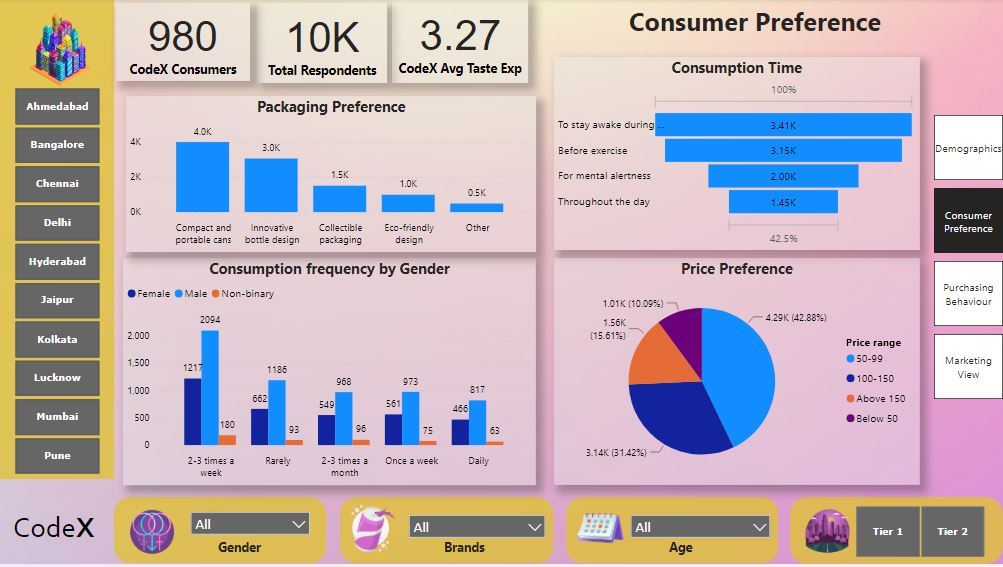

What the dashboard file says about the page in this screenshot:
{"tool":"powerbi","page":{"name":"Consumer Preference","canvas":[1280,720],"ordinal":1},"visuals":[{"type":"shape","box":[1008.4,634.9,271.6,85.4],"z":0},{"type":"shape","box":[434.6,635.4,272.1,84.5],"z":1000},{"type":"shape","box":[722.6,635.4,270.8,84.5],"z":2000},{"type":"shape","box":[146.6,635.4,270.8,84.5],"z":3000},{"type":"shape","box":[0,0,146.9,611.9],"z":4000},{"type":"slicer","fields":{"Values":["dim_repondents.Gender"]},"box":[219.3,643.9,181.7,56.4],"z":5000},{"type":"slicer","fields":{"Values":["fact_survey_responses.Current_brands"]},"box":[512.3,653.3,194.3,48.6],"z":6000},{"type":"slicer","fields":{"Values":["dim_cities.Tier"]},"box":[1066.9,645.5,213.1,72.1],"z":7000},{"type":"slicer","title":".","fields":{"Values":["dim_repondents.Age"]},"box":[780.2,653.3,208.4,37.6],"z":8000},{"type":"card","fields":{"Values":["fact_survey_responses.CodeX Consumer"]},"box":[329,4.7,166.1,101.8],"z":9000},{"type":"card","fields":{"Values":["fact_survey_responses.CodeX Consumers"]},"box":[148.8,4.7,170.8,98.7],"z":10000},{"type":"clusteredColumnChart","title":"Consumption frequency by Gender","fields":{"Y":["CountNonNull(fact_survey_responses.Respondent_ID)"],"Series":["dim_repondents.Gender"],"Category":["fact_survey_responses.Consume_frequency"]},"box":[158.2,330.6,526.4,289.8],"z":12000},{"type":"slicer","fields":{"Values":["dim_cities.City"]},"box":[0,106.8,146.9,505.1],"z":13000},{"type":"image","box":[149.3,645.9,92.5,66],"z":14000},{"type":"image","box":[9.9,0,136.6,123.9],"z":15000},{"type":"image","box":[401.4,632.4,146.5,84.5],"z":16000},{"type":"image","box":[722.5,621.1,87.3,98.6],"z":17000},{"type":"image","box":[988.7,643.7,132.4,69],"z":18000},{"type":"card","fields":{"Values":["fact_survey_responses.CodeX Avg Taste Exp"]},"box":[501.3,0,173.9,106.5],"z":19000},{"type":"textbox","box":[274.2,683.1,90.9,37.6],"z":20000},{"type":"textbox","box":[562.4,683.1,70.5,37.6],"z":21000},{"type":"textbox","box":[849.2,683.1,70.5,37.6],"z":22000},{"type":"textbox","box":[12.5,645.5,142.6,68.9],"z":23000},{"type":"textbox","box":[797.5,1.6,346.2,61.1],"z":24000},{"type":"funnel","title":"Consumption Time","fields":{"Category":["fact_survey_responses.Consume_time"],"Y":["CountNonNull(fact_survey_responses.Respondent_ID)"]},"box":[707.2,73.5,466.1,245.7],"z":26000},{"type":"clusteredColumnChart","title":"Packaging Preference","fields":{"Category":["fact_survey_responses.Packaging_preference"],"Y":["CountNonNull(fact_survey_responses.Respondent_ID)"]},"box":[161.4,123.8,523.3,199],"z":27000},{"type":"pieChart","title":"Price Preference","fields":{"Y":["CountNonNull(fact_survey_responses.Respondent_ID)"],"Category":["fact_survey_responses.Price_range"]},"box":[707.2,330.6,466.1,289.3],"z":28001},{"type":"pageNavigator","box":[1191.5,147.9,88.5,364.6],"z":28002}]}

Visuals, with their boxes in screenshot pixels (x1, y1, x2, y2), scaled from the page's 1280x720 canvas onto the 1003x567 screenshot:
shape: Rect(790, 500, 1002, 566)
shape: Rect(341, 500, 554, 566)
shape: Rect(566, 500, 778, 566)
shape: Rect(115, 500, 327, 566)
shape: Rect(0, 0, 115, 482)
slicer - dim_repondents.Gender: Rect(172, 507, 314, 551)
slicer - fact_survey_responses.Current_brands: Rect(401, 514, 554, 553)
slicer - dim_cities.Tier: Rect(836, 508, 1002, 565)
"." slicer: Rect(611, 514, 775, 544)
card - fact_survey_responses.CodeX Consumer: Rect(258, 4, 388, 84)
card - fact_survey_responses.CodeX Consumers: Rect(117, 4, 250, 81)
"Consumption frequency by Gender" clusteredColumnChart: Rect(124, 260, 536, 489)
slicer - dim_cities.City: Rect(0, 84, 115, 482)
image: Rect(117, 509, 189, 561)
image: Rect(8, 0, 115, 98)
image: Rect(315, 498, 429, 565)
image: Rect(566, 489, 635, 566)
image: Rect(775, 507, 878, 561)
card - fact_survey_responses.CodeX Avg Taste Exp: Rect(393, 0, 529, 84)
textbox: Rect(215, 538, 286, 566)
textbox: Rect(441, 538, 496, 566)
textbox: Rect(665, 538, 721, 566)
textbox: Rect(10, 508, 122, 563)
textbox: Rect(625, 1, 896, 49)
"Consumption Time" funnel: Rect(554, 58, 919, 251)
"Packaging Preference" clusteredColumnChart: Rect(126, 97, 537, 254)
"Price Preference" pieChart: Rect(554, 260, 919, 488)
pageNavigator: Rect(934, 116, 1002, 404)
